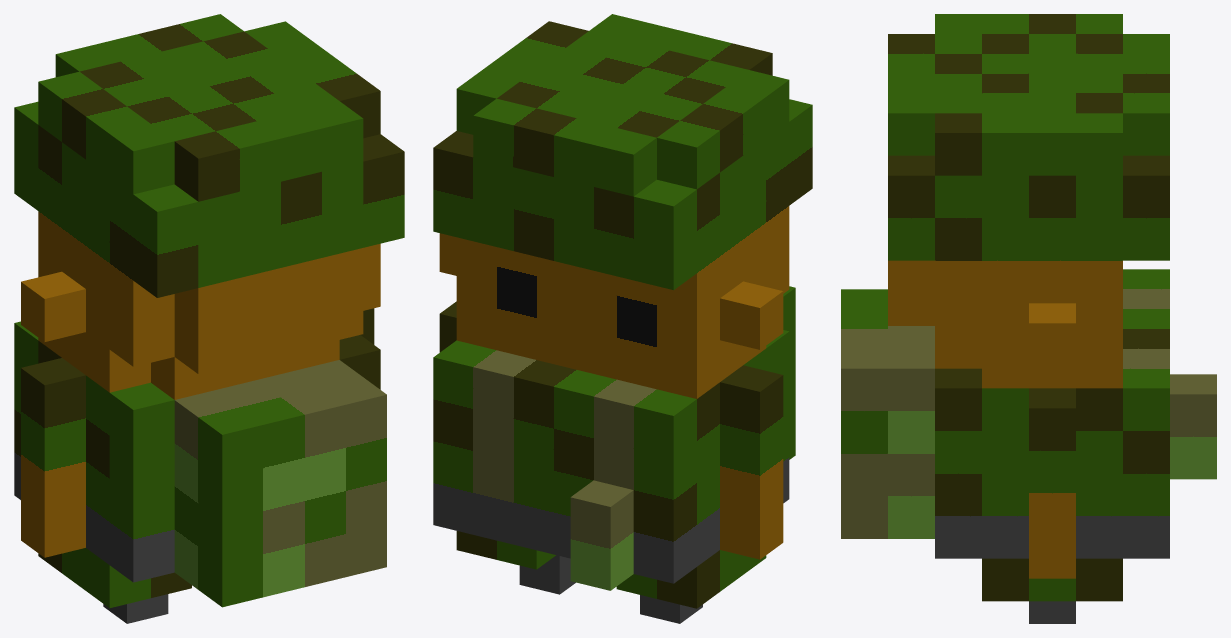
Rendered from chr_army2a.dae.
3 views of the same model, side by side, from view 1: azimuth 30°, elevation 25°; view 2: azimuth 150°, elevation 25°; view 3: azimuth 270°, elevation 25° (orthographic). The views are drawn at different scales.
Parts seen in each view (by area): view 1: chr_army2a; view 2: chr_army2a; view 3: chr_army2a.
Part boxes in pixels (x1,y1,x2,y2): chr_army2a: (14, 14, 404, 623); chr_army2a: (433, 14, 812, 623); chr_army2a: (841, 14, 1216, 623).
Size of the model in its own units: 0.8 by 0.8 by 1.2.
1 material, 1 textured.
